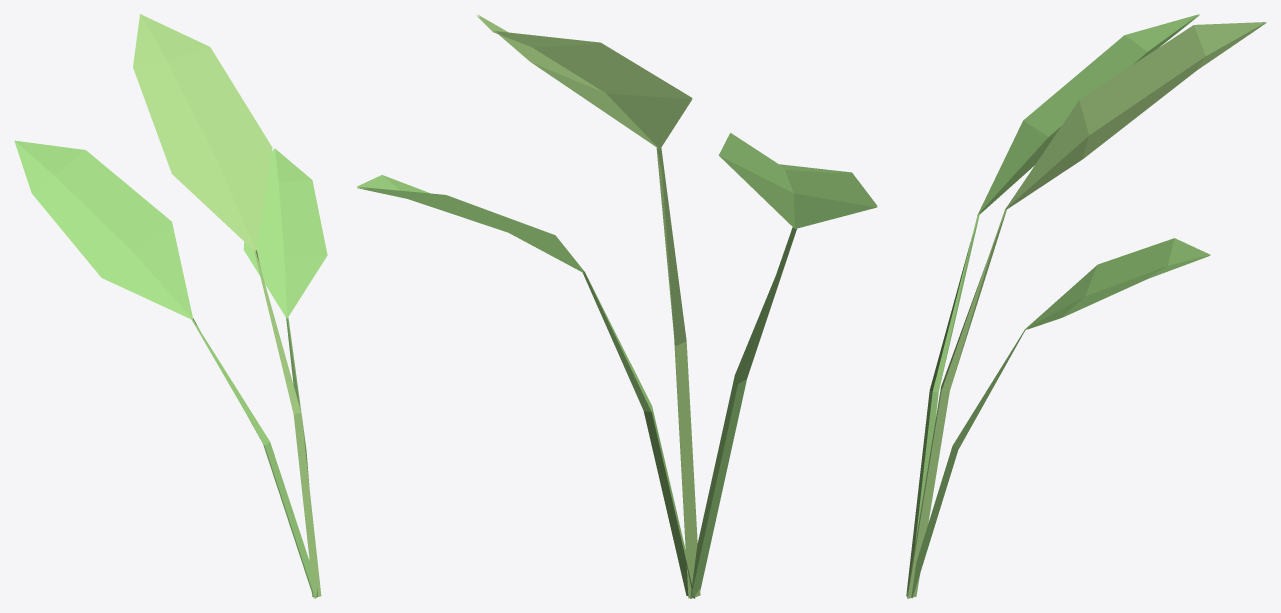
File: Plant_j_TwoS_03.fbx
3 renders of one model, left to right at view 1: azimuth 30°, elevation 25°; view 2: azimuth 150°, elevation 25°; view 3: azimuth 270°, elevation 25°, orthographic. The views are drawn at different scales.
Parts seen in each view (by area): view 1: Plant_j_TwoS_03; view 2: Plant_j_TwoS_03; view 3: Plant_j_TwoS_03.
Part boxes in pixels (x1=…): Plant_j_TwoS_03: x1=14, y1=14, x2=327, y2=598; Plant_j_TwoS_03: x1=357, y1=14, x2=877, y2=598; Plant_j_TwoS_03: x1=906, y1=14, x2=1266, y2=598.
Size of the model in its own units: 0.3811 by 0.5993 by 0.349.
